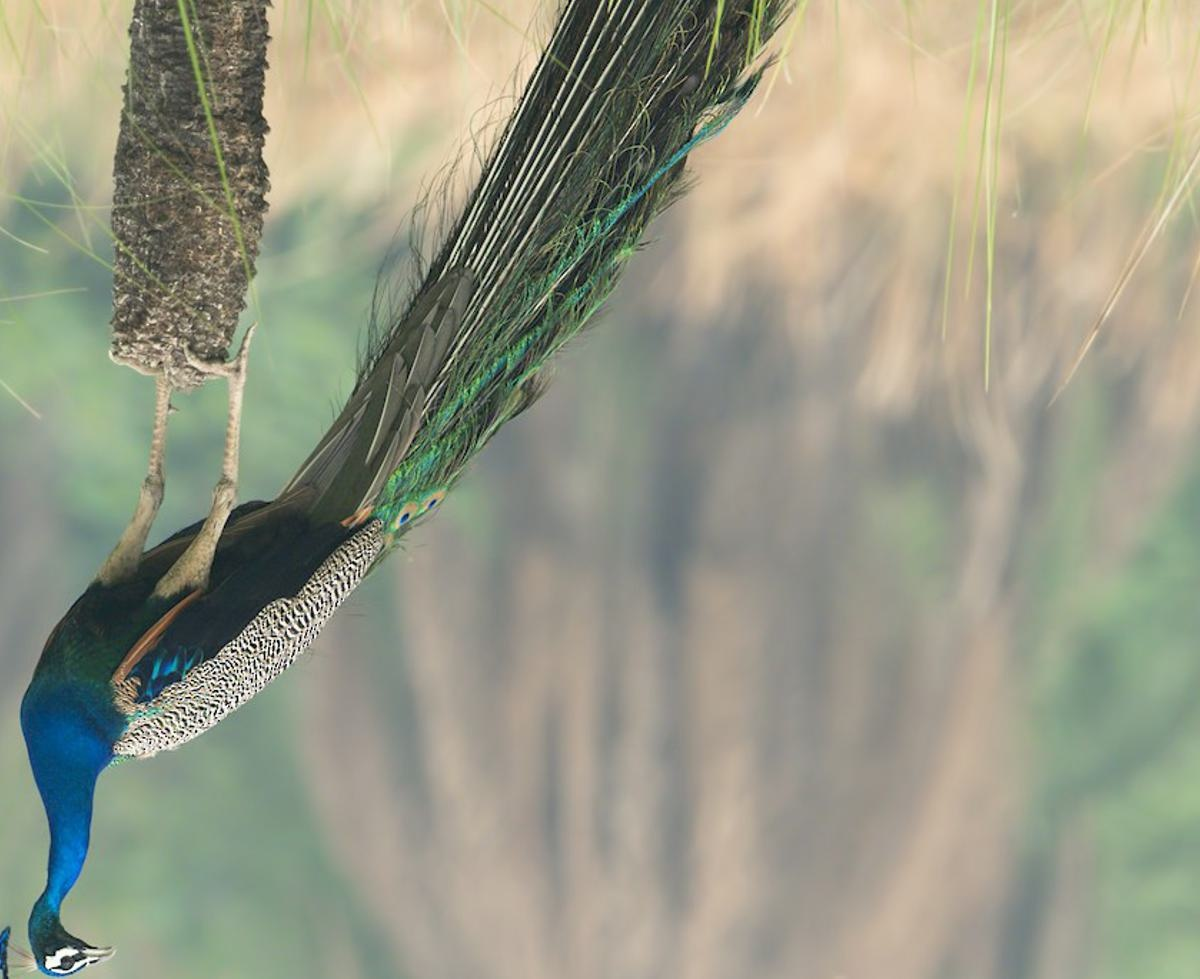peacock: (17, 72, 790, 967)
